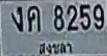2: (66, 4, 77, 30)
5: (79, 3, 90, 29)
8: (53, 4, 63, 30)
9: (93, 3, 103, 29)
A04: (27, 5, 40, 31)
A07: (11, 5, 22, 31)
SKA: (37, 40, 75, 56)
